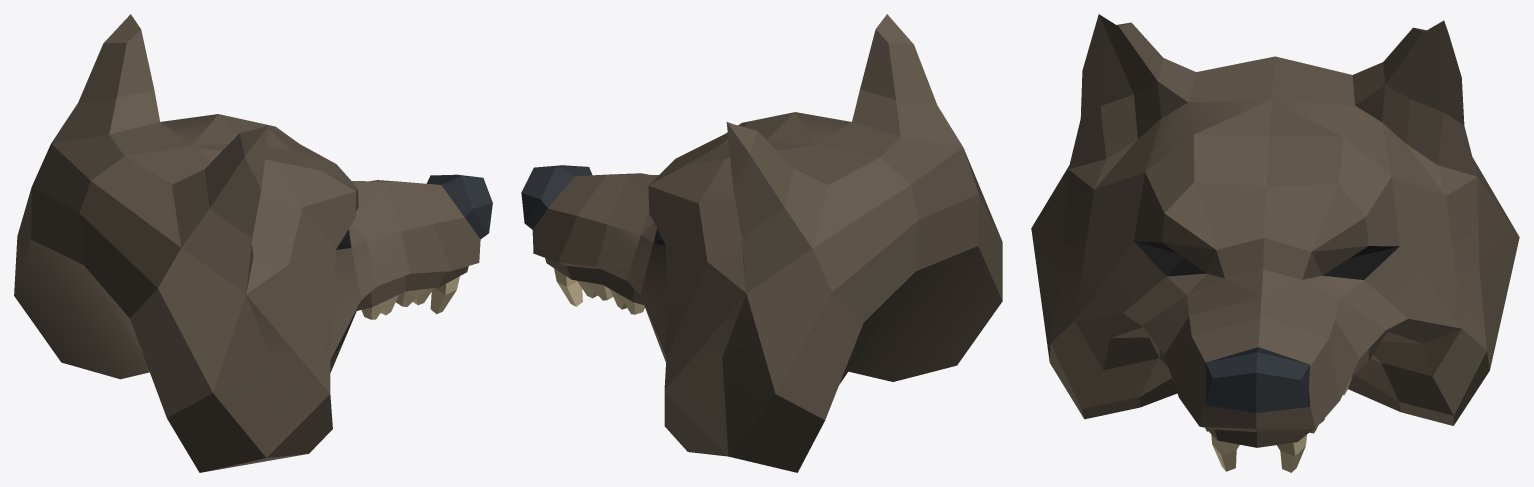
File: Chr_ShoulderAttachLeft_09_Static.fbx
3 views of the same model, side by side, from view 1: azimuth 30°, elevation 25°; view 2: azimuth 150°, elevation 25°; view 3: azimuth 270°, elevation 25° (orthographic). The views are drawn at different scales.
Visible parts, largest first — view 1: Chr_ShoulderAttachLeft_09_Static; view 2: Chr_ShoulderAttachLeft_09_Static; view 3: Chr_ShoulderAttachLeft_09_Static.
Part boxes in pixels (x1=…): Chr_ShoulderAttachLeft_09_Static: x1=14, y1=14, x2=492, y2=472; Chr_ShoulderAttachLeft_09_Static: x1=521, y1=14, x2=1002, y2=472; Chr_ShoulderAttachLeft_09_Static: x1=1031, y1=14, x2=1519, y2=472.
Bounding box in the file's own units: 0.295 × 0.2368 × 0.2684.
